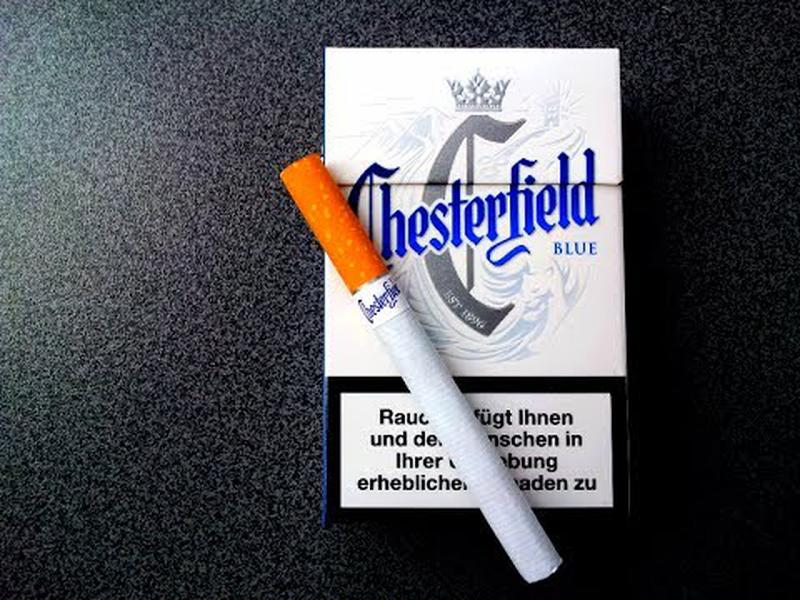chesterfield_blue: (326, 49, 624, 517)
